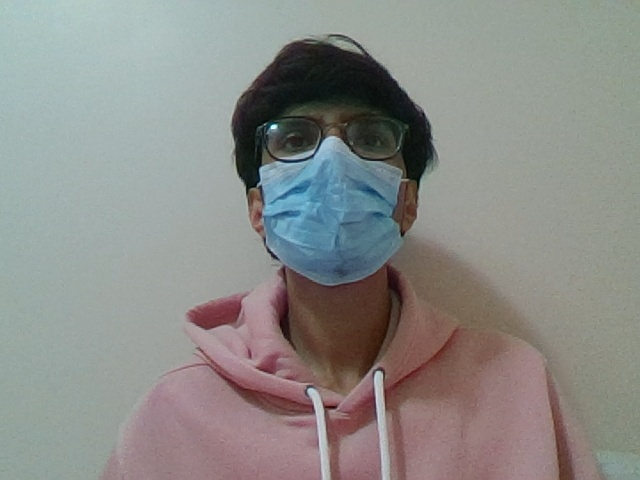Face_mask_found: (227, 154, 447, 295)
